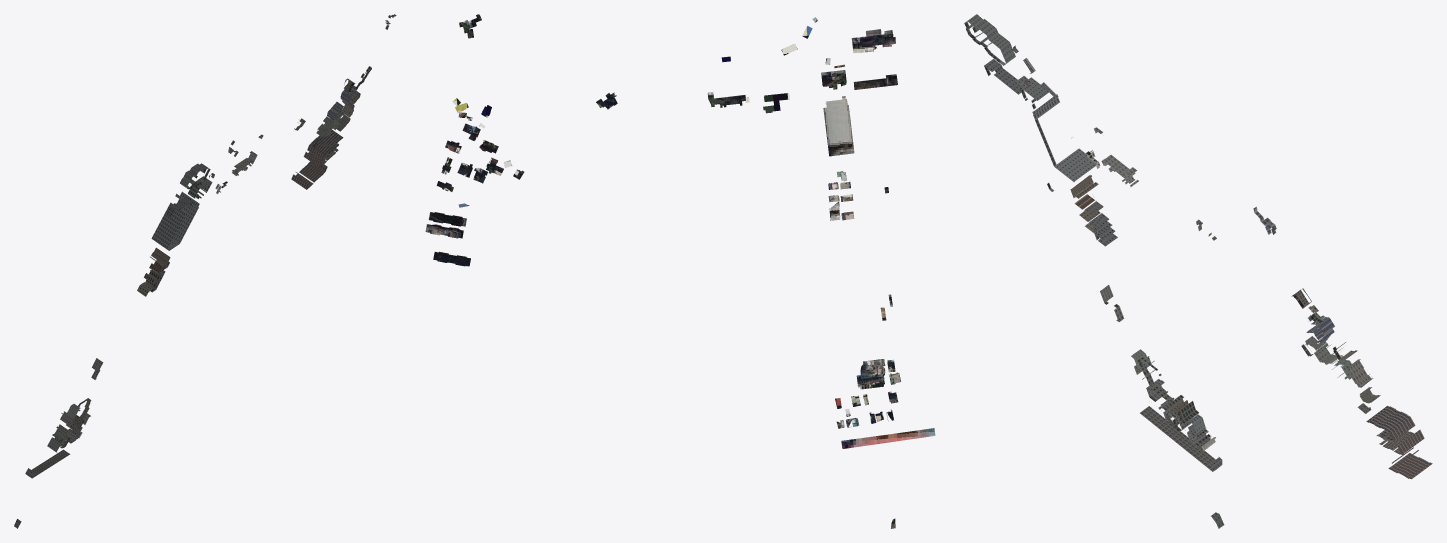
Rendered from tile_LOD4_r1_c1.glb.
3 renders of one model, left to right at view 1: azimuth 30°, elevation 25°; view 2: azimuth 150°, elevation 25°; view 3: azimuth 270°, elevation 25°, orthographic. The views are drawn at different scales.
Bounding box in the file's own units: 679 × 643 × 461.
Materials: 261 (261 with a texture image).
